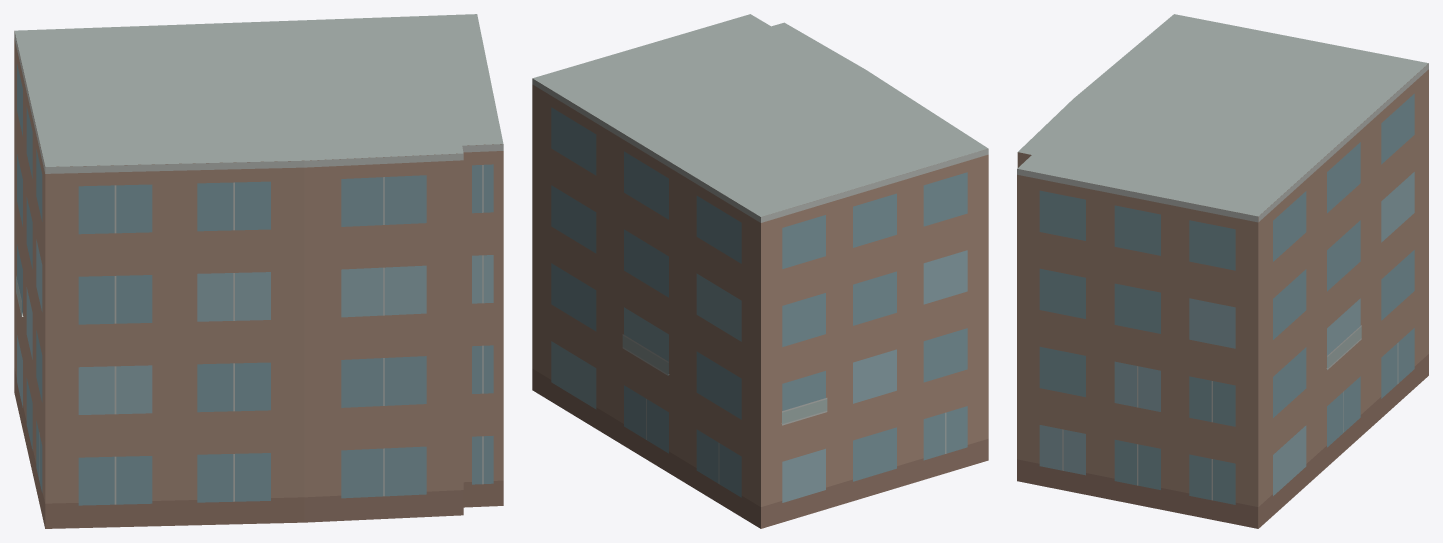
The model's file is survey-upis-32778742.glb.
3 renders of one model, left to right at view 1: azimuth 30°, elevation 25°; view 2: azimuth 150°, elevation 25°; view 3: azimuth 270°, elevation 25°, orthographic. The views are drawn at different scales.
Parts seen in each view (by area): view 1: survey-upis-32778742.tmp; view 2: survey-upis-32778742.tmp; view 3: survey-upis-32778742.tmp.
Boxes of the visible parts, x1,y1,x2,y2 form: survey-upis-32778742.tmp: [14, 14, 503, 528]; survey-upis-32778742.tmp: [532, 14, 988, 528]; survey-upis-32778742.tmp: [1017, 14, 1428, 528].
Size of the model in its own units: 17.81 by 12.8 by 15.3.
